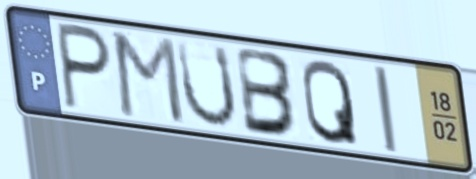B: (234, 43, 302, 140)
I: (369, 63, 401, 156)
M: (111, 28, 187, 128)
P: (54, 18, 115, 115)
Q: (299, 56, 362, 148)
U: (173, 37, 240, 131)
